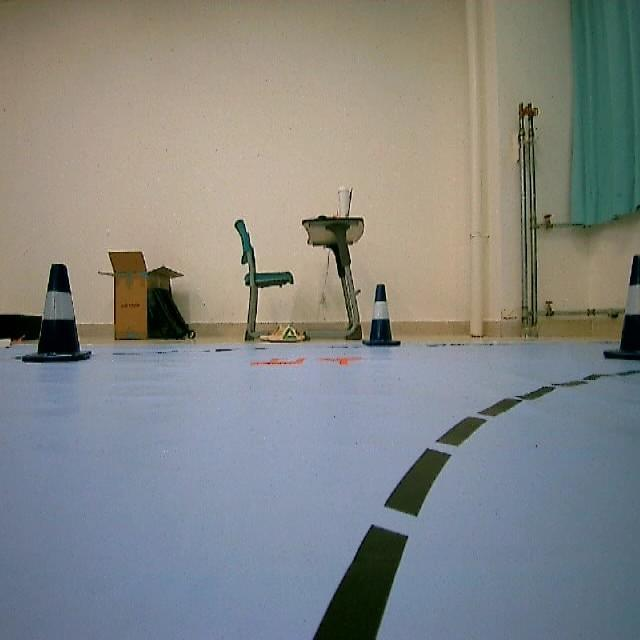obstacle: (21, 262, 88, 364), (366, 279, 399, 349)
